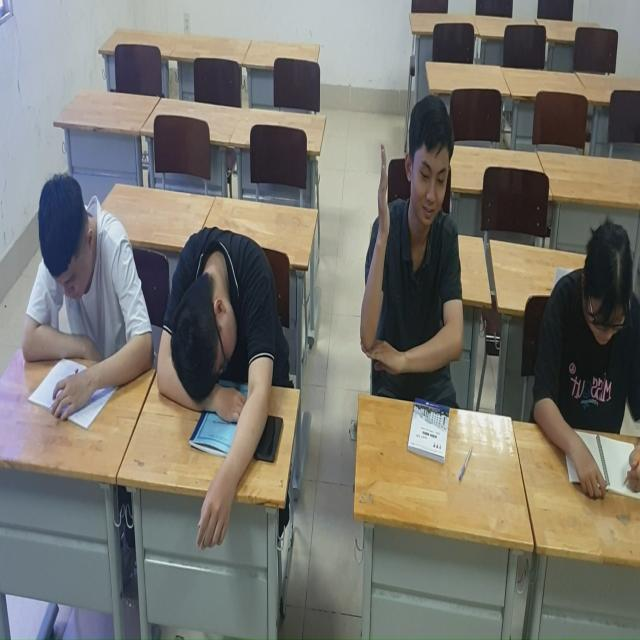raise_hand: (356, 85, 469, 457)
read: (514, 213, 640, 511), (19, 165, 158, 429)
sleep: (155, 211, 282, 577)
